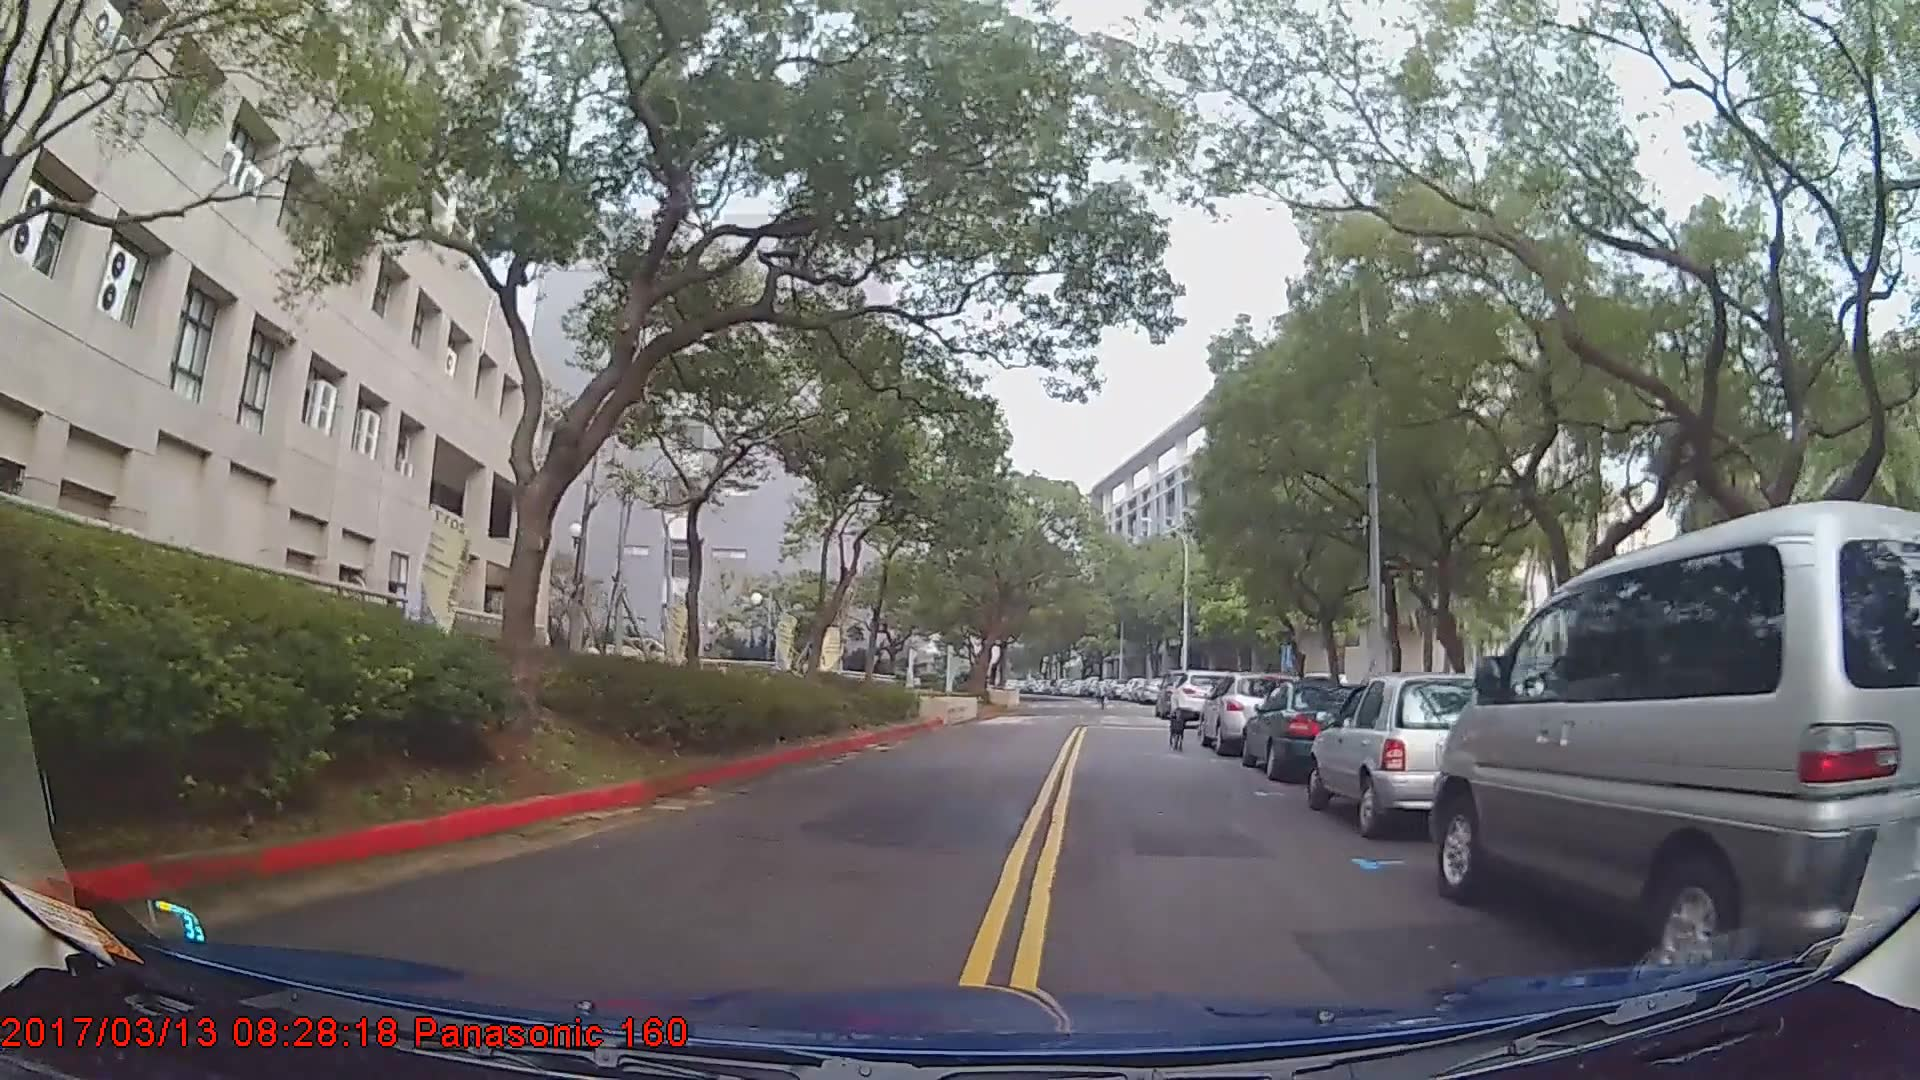vehicle: (1425, 491, 1920, 969), (1304, 673, 1522, 837), (1240, 679, 1383, 785), (1199, 673, 1295, 756), (1168, 669, 1234, 724)
